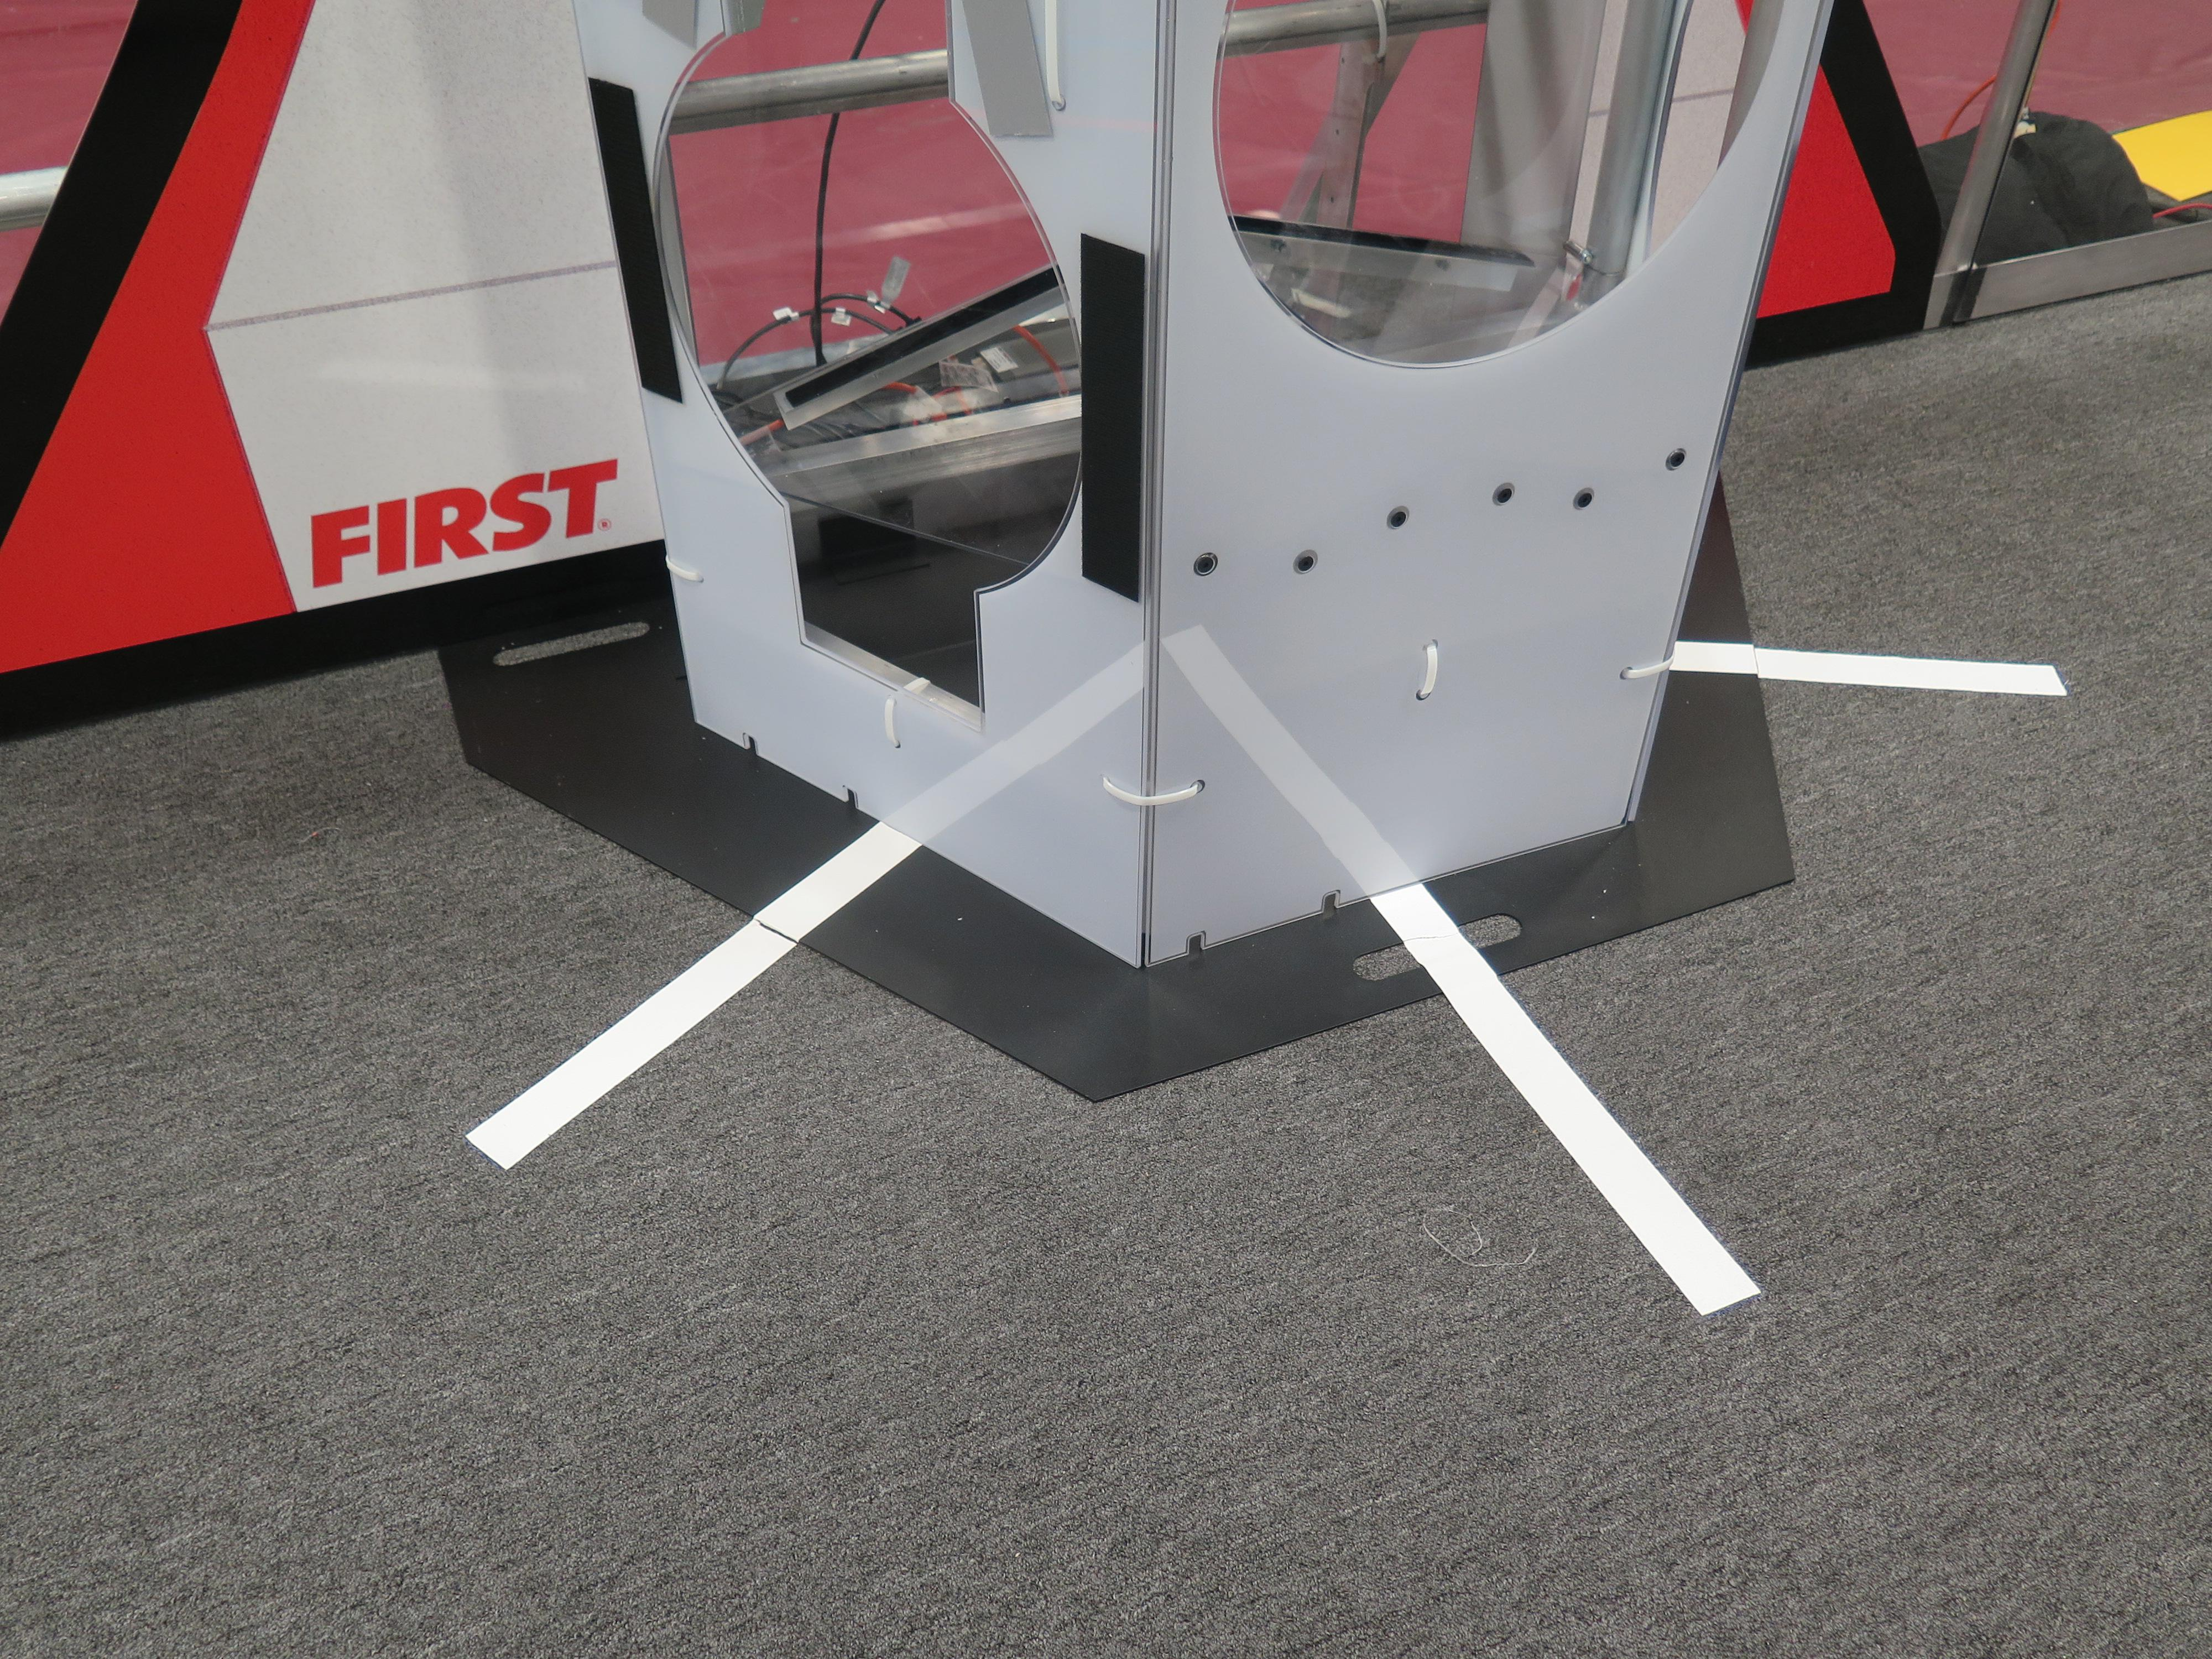Tape: (958, 0, 1057, 145), (637, 0, 702, 56)
